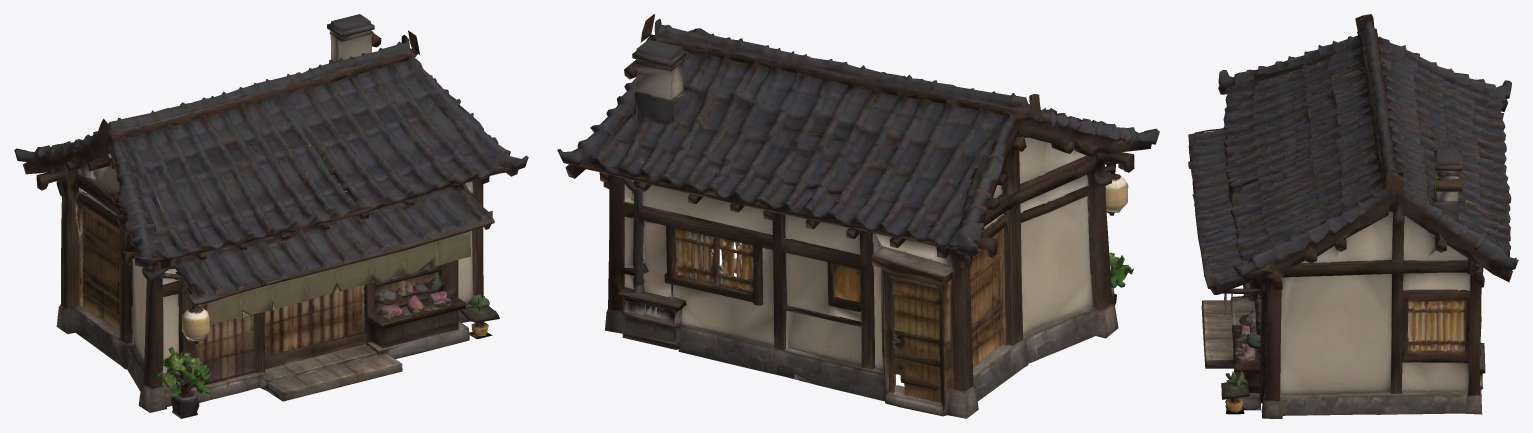
3 renders of one model, left to right at view 1: azimuth 30°, elevation 25°; view 2: azimuth 150°, elevation 25°; view 3: azimuth 270°, elevation 25°, orthographic. The views are drawn at different scales.
Visible parts, largest first — view 1: compact__shop_1__native_mobile; view 2: compact__shop_1__native_mobile; view 3: compact__shop_1__native_mobile.
Boxes of the visible parts, <box> form: compact__shop_1__native_mobile: <box>14,14,528,418</box>; compact__shop_1__native_mobile: <box>557,14,1159,418</box>; compact__shop_1__native_mobile: <box>1188,14,1518,418</box>.
Bounding box in the file's own units: 1 × 0.5936 × 0.71.
Materials: 1 (1 with a texture image).
